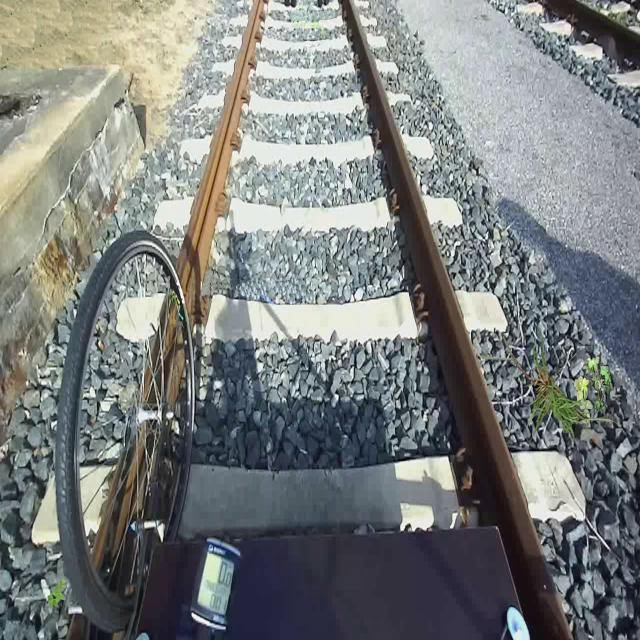Plant: (479, 325, 622, 444), (574, 353, 612, 426), (47, 578, 66, 610)
